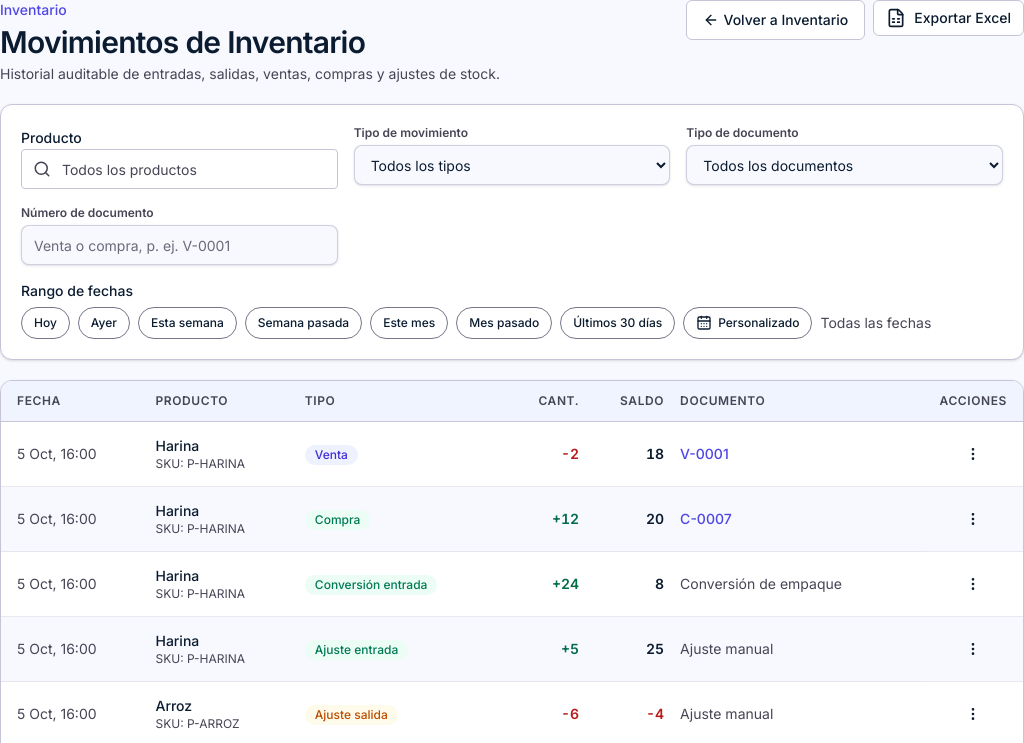
Scenario: InventoryMovementsPage · filtros en servidor y en la URL › estado en la URL › sends the document text after the debounce only from 3 characters, and goes back to page 1
Step 1. Type "V-" into the search field labelled "Número de documento" → (179, 245), box [21,225,338,265]
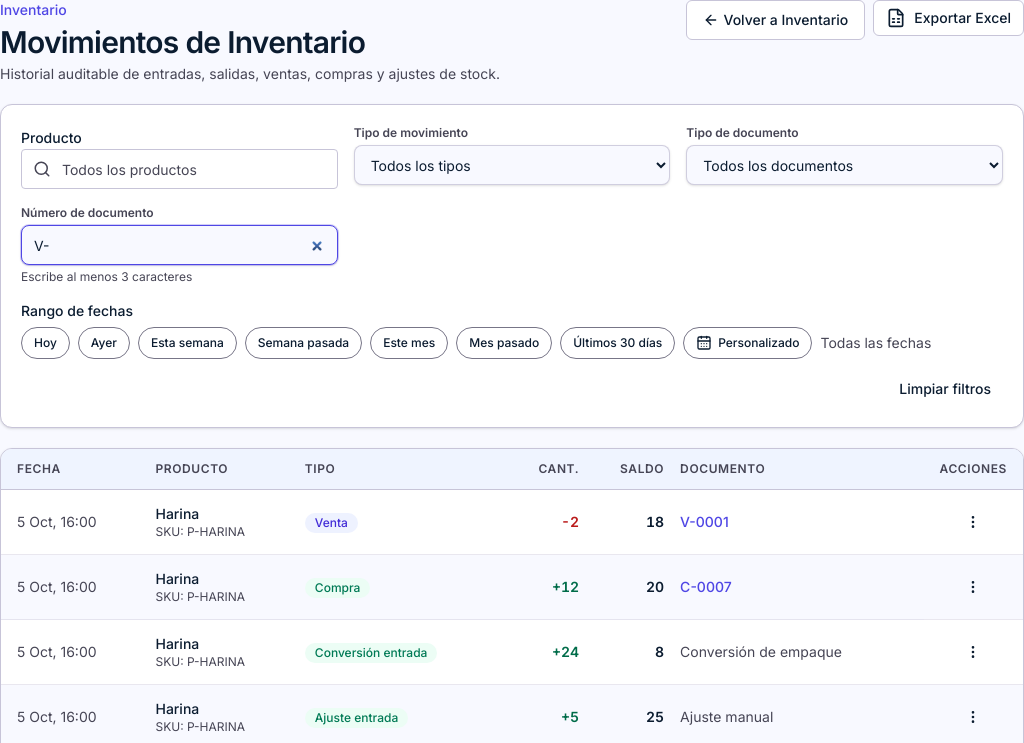
Now the text "Escribe al menos 3 caracteres" is shown, box [21,269,192,284]
Step 2. Type "00" into the search field labelled "Número de documento" → (179, 245), box [21,225,338,265]
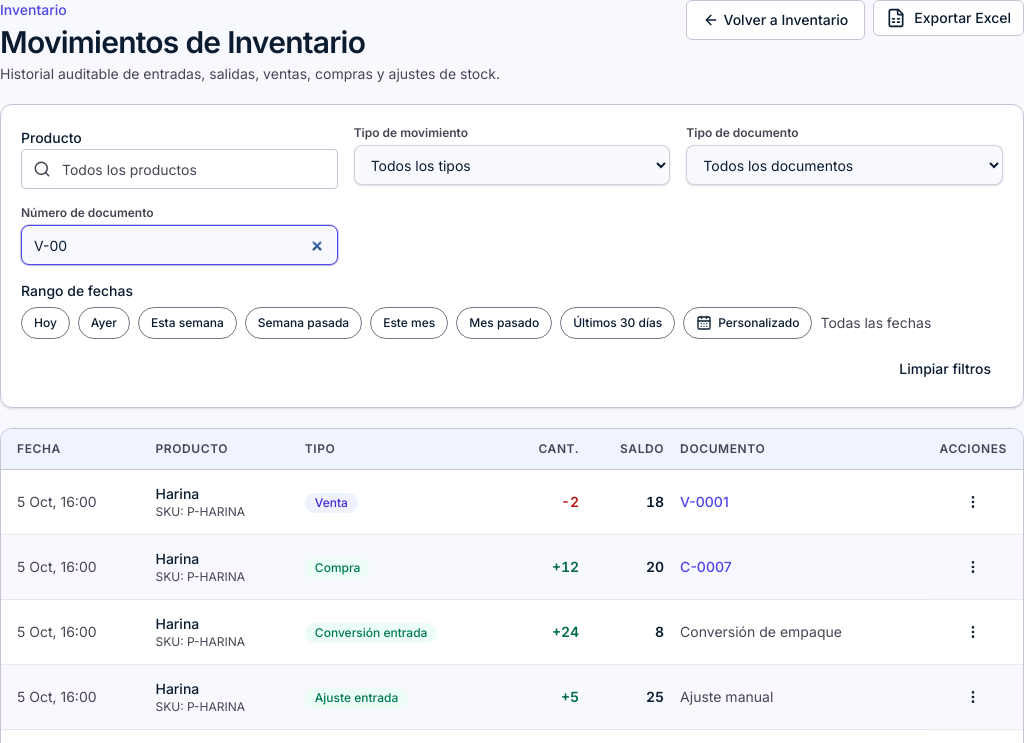
Now the text "Escribe al menos 3 caracteres" is gone
